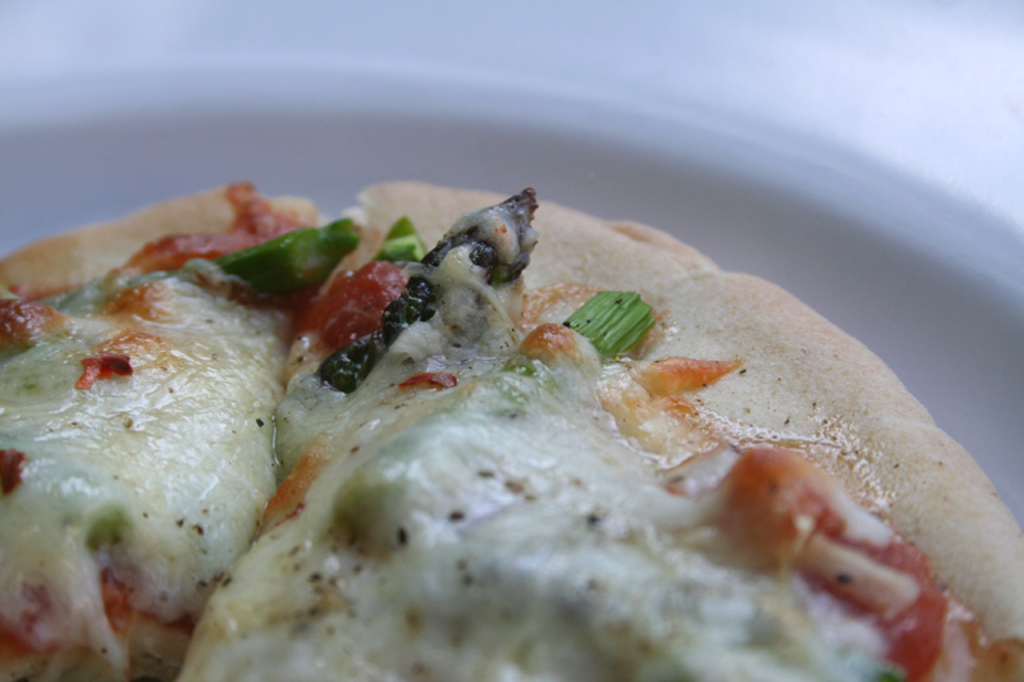Pizza: (0, 174, 1022, 675)
